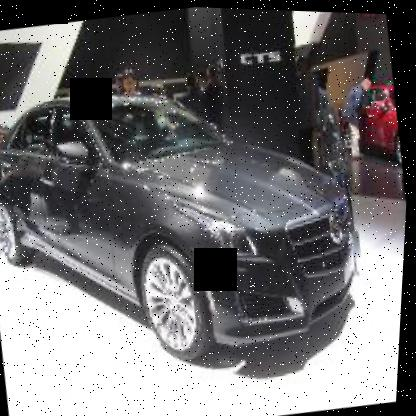not_emergency: (0, 23, 415, 412)
